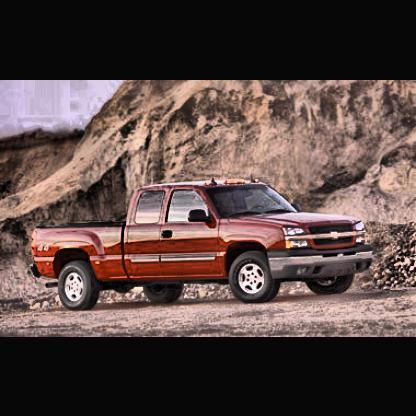Chevrolet Silverado 1500 Classic Extended Cab 2007: (32, 174, 379, 315)
